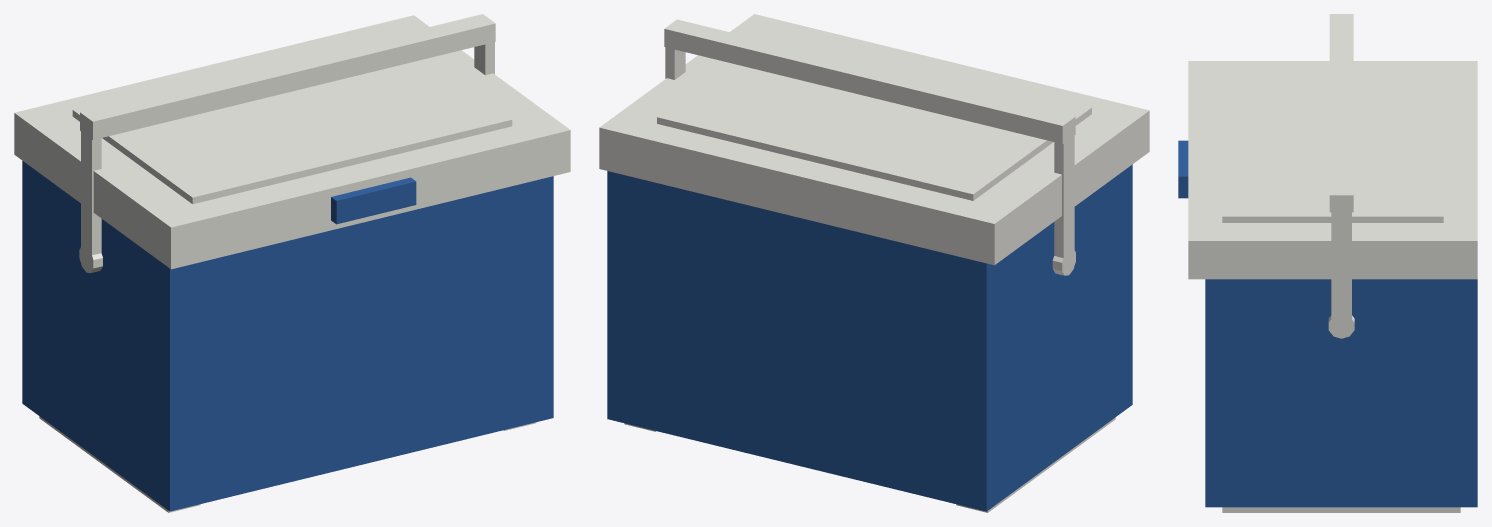
File: esky.glb
The picture shows the model from 3 angles, left to right: view 1: azimuth 30°, elevation 25°; view 2: azimuth 150°, elevation 25°; view 3: azimuth 270°, elevation 25°; orthographic projection. The views are drawn at different scales.
Visible parts, largest first — view 1: Esky, Lid; view 2: Esky, Lid; view 3: Esky, Lid.
Part boxes in pixels (x1,y1,x2,y2): Esky: [22, 14, 553, 512]; Lid: [14, 15, 570, 269]; Esky: [607, 19, 1132, 512]; Lid: [599, 14, 1149, 265]; Esky: [1205, 14, 1477, 512]; Lid: [1178, 61, 1477, 279].
Size of the model in its own units: 0.504 by 0.422 by 0.352.
